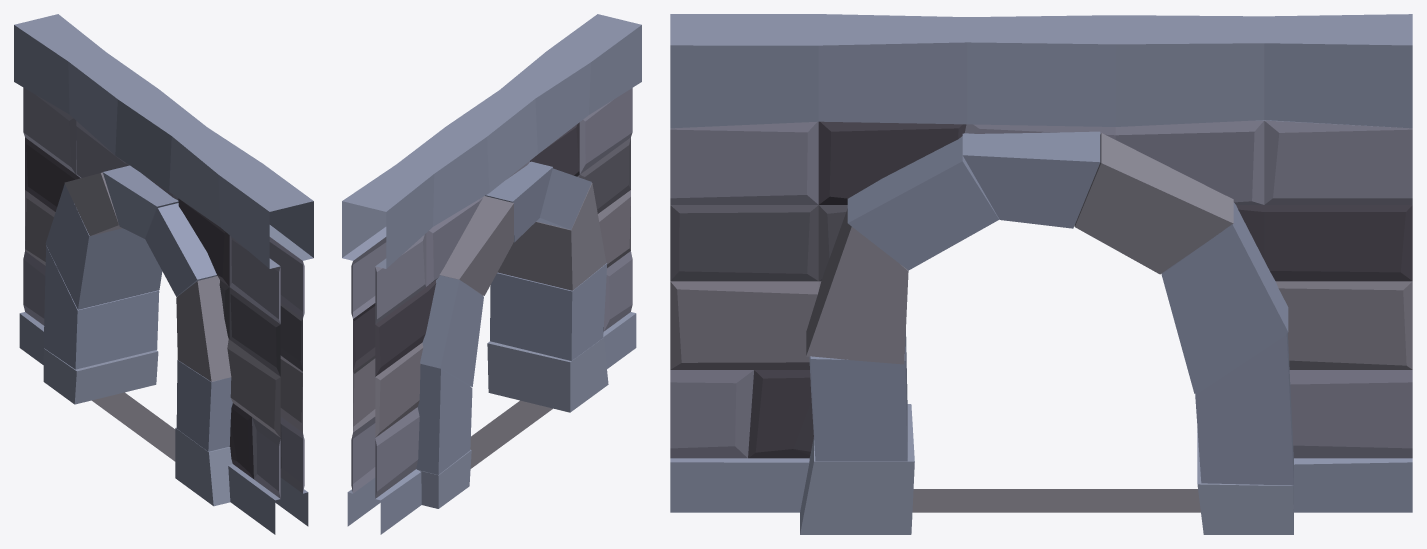
Rendered from wall_door.fbx.
3 views of the same model, side by side, from view 1: azimuth 30°, elevation 25°; view 2: azimuth 150°, elevation 25°; view 3: azimuth 270°, elevation 25° (orthographic). The views are drawn at different scales.
Parts seen in each view (by area): view 1: wall_door, wall_door.001; view 2: wall_door, wall_door.001; view 3: wall_door, wall_door.001.
Part boxes in pixels (x1,y1,x2,y2): wall_door: [14, 14, 313, 534]; wall_door.001: [92, 392, 175, 461]; wall_door: [342, 14, 641, 534]; wall_door.001: [470, 400, 552, 468]; wall_door: [670, 14, 1412, 534]; wall_door.001: [912, 489, 1200, 512].
Bounding box in the file's own units: 133 × 420 × 600.
